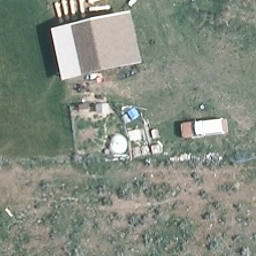car: (179, 119, 229, 139)
